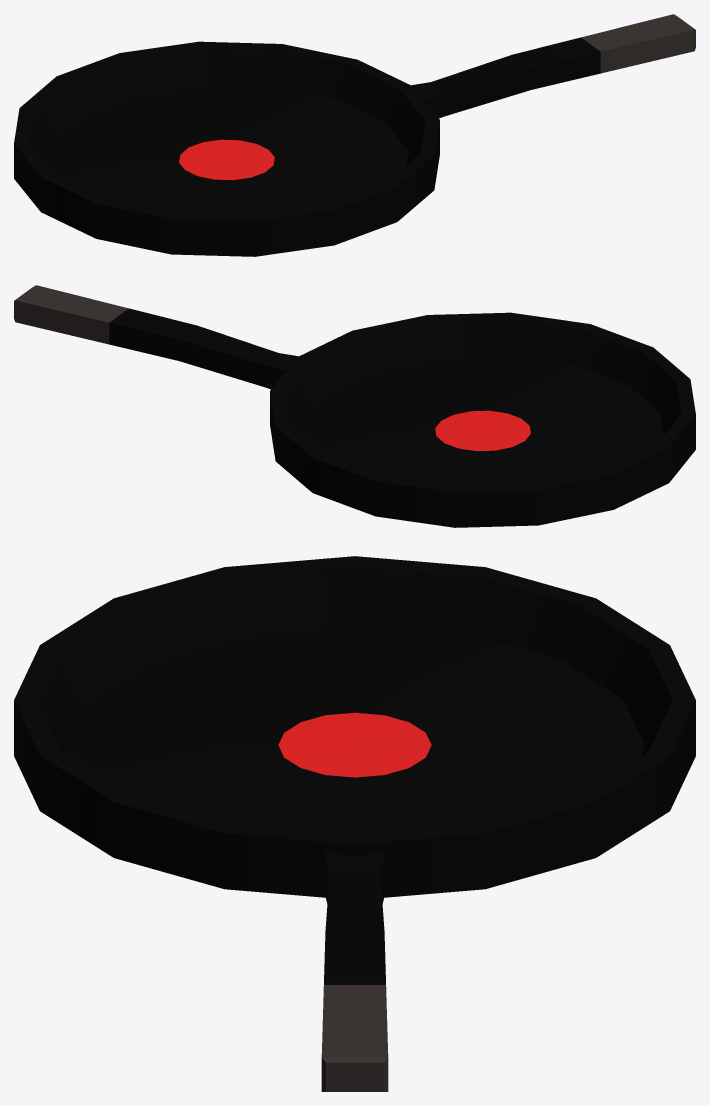
Rendered from LP_pan_1.glb.
3 views of the same model, one above another, from view 1: azimuth 30°, elevation 25°; view 2: azimuth 150°, elevation 25°; view 3: azimuth 270°, elevation 25° (orthographic). The views are drawn at different scales.
Visible parts, largest first — view 1: LP_pan_1.001; view 2: LP_pan_1.001; view 3: LP_pan_1.001.
Part boxes in pixels (x1,y1,x2,y2): LP_pan_1.001: (14,14,695,256); LP_pan_1.001: (14,285,695,527); LP_pan_1.001: (14,556,695,1091).
Size of the model in its own units: 0.4062 by 0.0211 by 0.234.
1 material, 1 textured.
